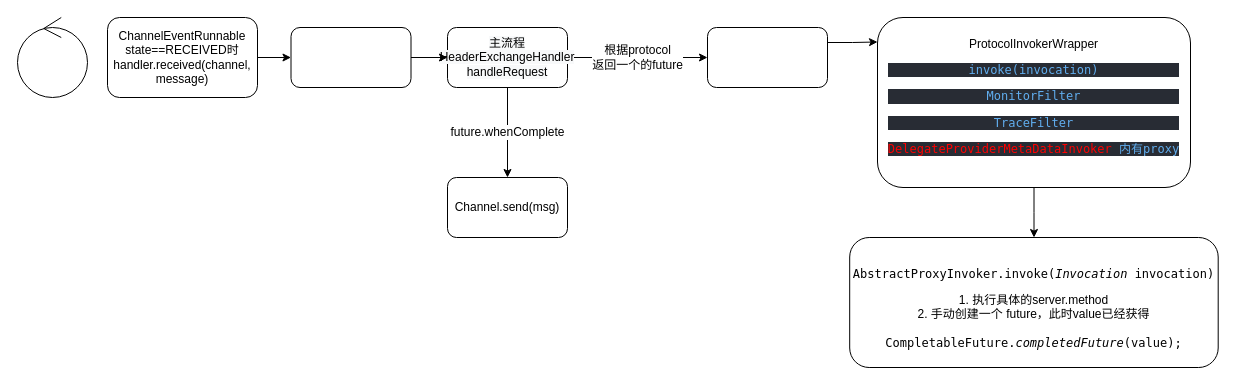
Image size: 1236x385. Some labels were removed from this diagram. Each missing label, with the centre of its shape:
DecodeHandler 反序列化: the point at 350,57
DubboProtocol: the point at 767,57
event loop: the point at 52,57
